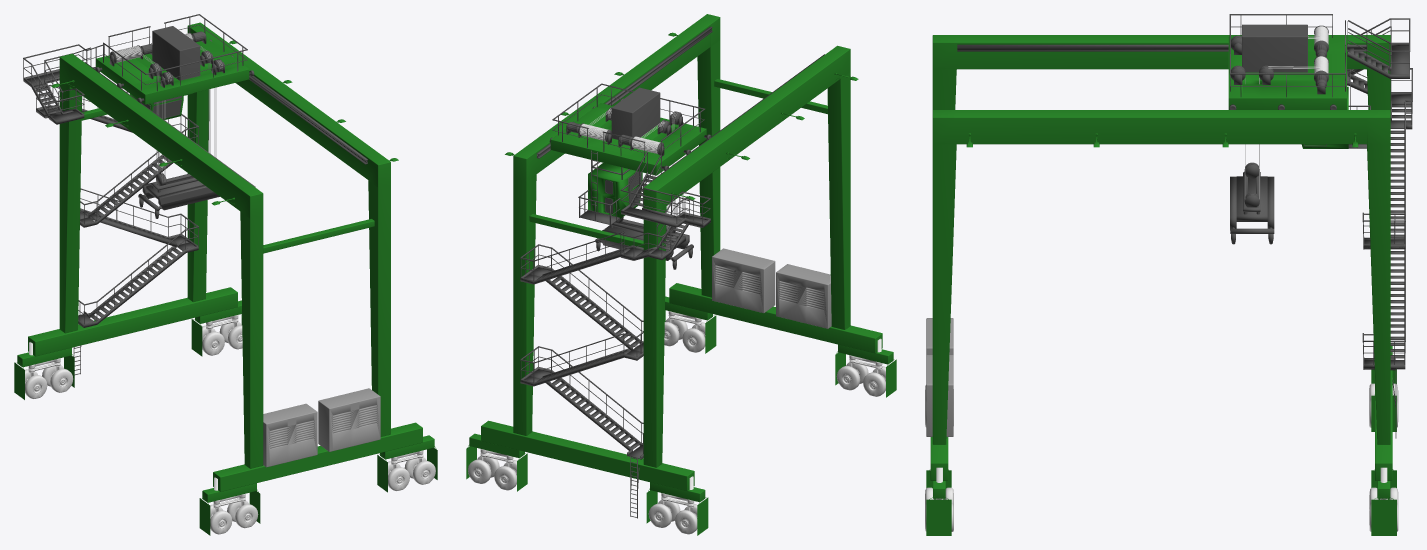
File: lmdc lv.fbx
The picture shows the model from 3 angles, left to right: view 1: azimuth 30°, elevation 25°; view 2: azimuth 150°, elevation 25°; view 3: azimuth 270°, elevation 25°; orthographic projection. The views are drawn at different scales.
Parts seen in each view (by area): view 1: Obj3d66_504749_2_437, Obj3d66_504749_3_264, Obj3d66_504749_6_773, Obj3d66_504749_49_496, Obj3d66_504749_4_642, Obj3d66_504749_64_798, Obj3d66_504749_65_892, Obj3d66_504749_14_725, Obj3d66_504749_55_555, Obj3d66_504749_9_861, Obj3d66_504749_16_876, Obj3d66_504749_8_576 (+13 smaller); view 2: Obj3d66_504749_2_437, Obj3d66_504749_3_264, Obj3d66_504749_6_773, Obj3d66_504749_49_496, Obj3d66_504749_4_642, Obj3d66_504749_64_798, Obj3d66_504749_65_892, Obj3d66_504749_37_267, Obj3d66_504749_14_725, Obj3d66_504749_16_876, Obj3d66_504749_9_861, Obj3d66_504749_55_555 (+15 smaller); view 3: Obj3d66_504749_3_264, Obj3d66_504749_2_437, Obj3d66_504749_49_496, Obj3d66_504749_55_555, Obj3d66_504749_11_519, Obj3d66_504749_50_929, Obj3d66_504749_17_745, Obj3d66_504749_15_424, Obj3d66_504749_64_798, Obj3d66_504749_22_212, Obj3d66_504749_59_19, Obj3d66_504749_23_934 (+3 smaller).
Boxes of the visible parts, x1,y1,x2,y2 form: Obj3d66_504749_2_437: [59, 53, 263, 468]; Obj3d66_504749_3_264: [187, 22, 390, 436]; Obj3d66_504749_6_773: [28, 287, 237, 356]; Obj3d66_504749_49_496: [96, 38, 249, 104]; Obj3d66_504749_4_642: [213, 422, 422, 491]; Obj3d66_504749_64_798: [318, 388, 380, 451]; Obj3d66_504749_65_892: [263, 403, 317, 467]; Obj3d66_504749_14_725: [78, 220, 198, 327]; Obj3d66_504749_55_555: [152, 26, 200, 80]; Obj3d66_504749_9_861: [17, 300, 434, 502]; Obj3d66_504749_16_876: [80, 119, 198, 227]; Obj3d66_504749_8_576: [25, 342, 73, 398]; Obj3d66_504749_2_437: [643, 45, 850, 467]; Obj3d66_504749_3_264: [513, 14, 720, 435]; Obj3d66_504749_6_773: [481, 420, 694, 491]; Obj3d66_504749_49_496: [550, 103, 706, 175]; Obj3d66_504749_4_642: [669, 283, 882, 353]; Obj3d66_504749_64_798: [712, 248, 775, 313]; Obj3d66_504749_65_892: [776, 264, 831, 328]; Obj3d66_504749_37_267: [578, 150, 642, 225]; Obj3d66_504749_14_725: [529, 346, 643, 459]; Obj3d66_504749_16_876: [529, 244, 643, 351]; Obj3d66_504749_9_861: [469, 296, 893, 501]; Obj3d66_504749_55_555: [611, 87, 660, 139]; Obj3d66_504749_3_264: [932, 110, 1390, 444]; Obj3d66_504749_2_437: [932, 35, 1390, 109]; Obj3d66_504749_49_496: [1228, 37, 1346, 109]; Obj3d66_504749_55_555: [1242, 24, 1307, 72]; Obj3d66_504749_11_519: [926, 469, 1396, 535]; Obj3d66_504749_50_929: [957, 44, 1366, 51]; Obj3d66_504749_17_745: [1390, 101, 1411, 248]; Obj3d66_504749_15_424: [1390, 213, 1405, 369]; Obj3d66_504749_64_798: [926, 355, 953, 436]; Obj3d66_504749_22_212: [1348, 18, 1410, 78]; Obj3d66_504749_59_19: [1236, 176, 1267, 221]; Obj3d66_504749_23_934: [1347, 20, 1390, 78].
Bounding box in the file's own units: 4.57 × 7.02 × 7.08.
